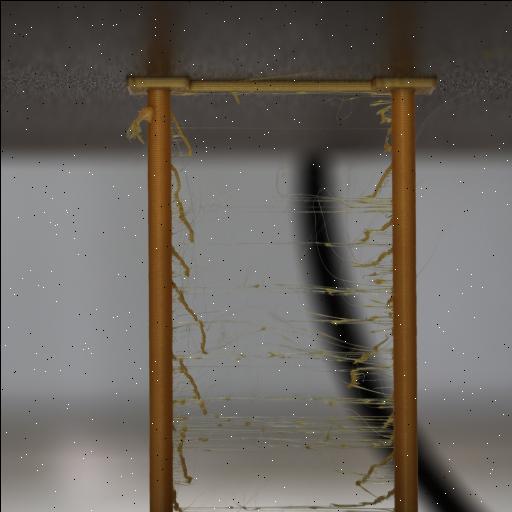stringing: (170, 155, 392, 512), (122, 102, 156, 146)
